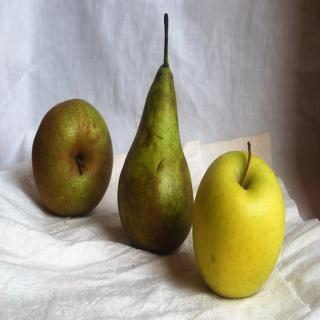Pear: (118, 62, 194, 256)
